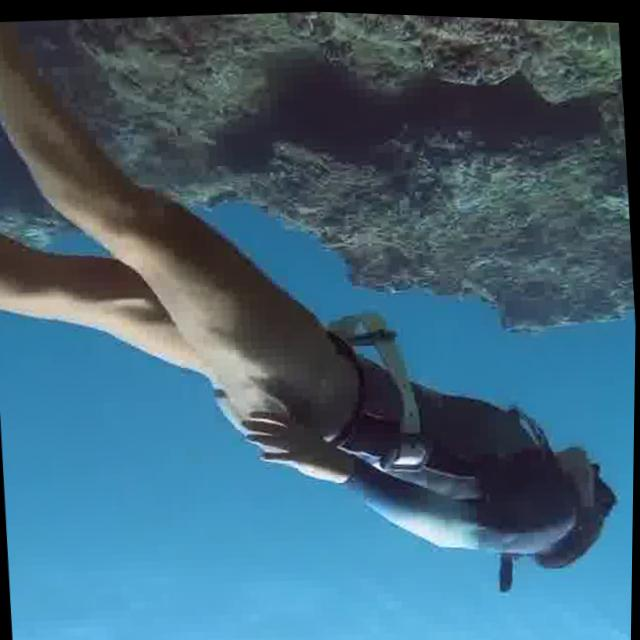human: (0, 0, 640, 638)
